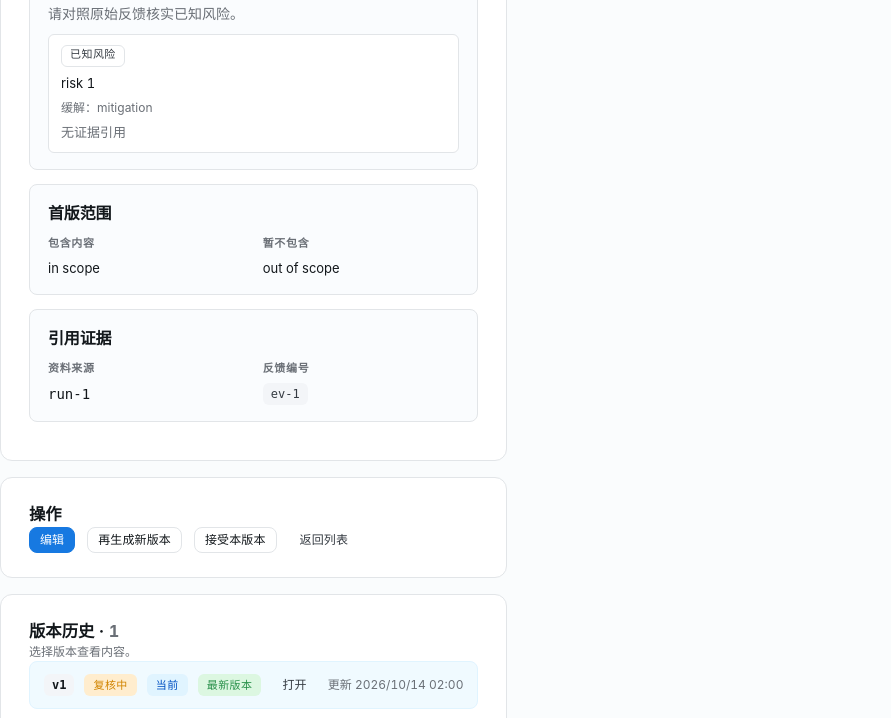
Scenario: PrdDetailPage — Phase 7 C2 › enters edit mode and persists a structured content patch via PATCH /prds/{id}
This screenshot has width=891, height=718.
(page scrolled)
Click the button with test id "prd-edit-button".
click(52, 540)  # box [29,526,75,552]
(page scrolled)
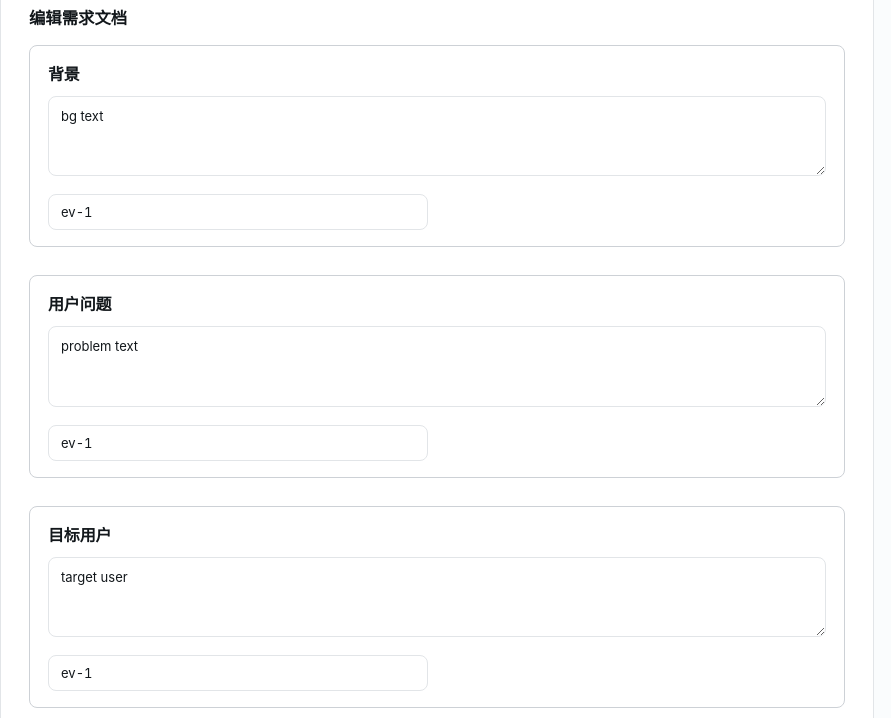
Replace the text in the text box with test id "prd-draft-problem-text" with "updated problem statement from PM" at [437, 367], box [48,326,826,407]
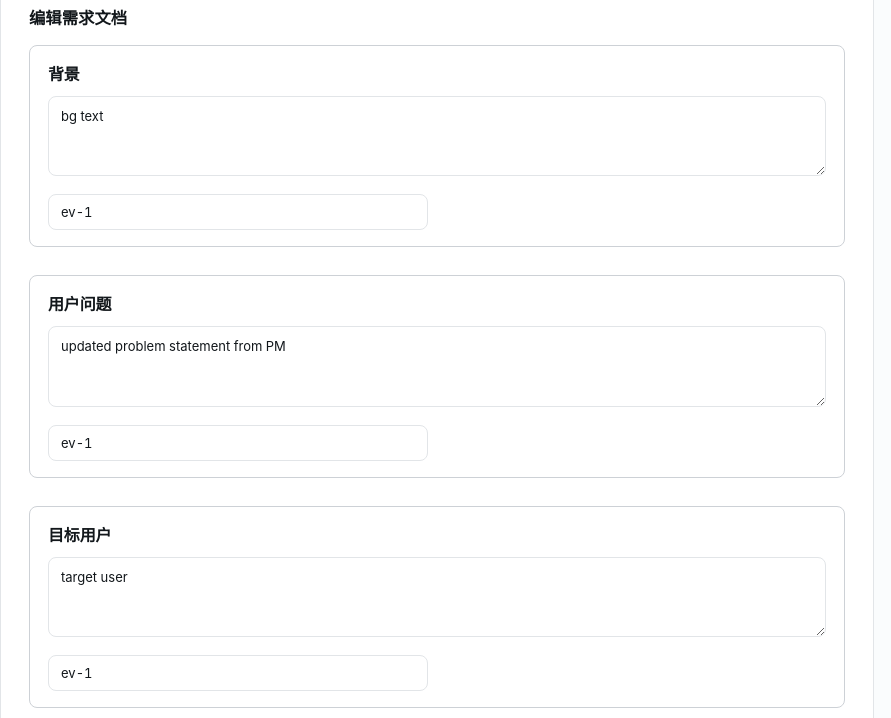
Replace the text in the field with test id "prd-draft-problem-evidence" with "ev-pm-1, ev-pm-2" at [238, 443], box [48,425,428,461]
(page scrolled)
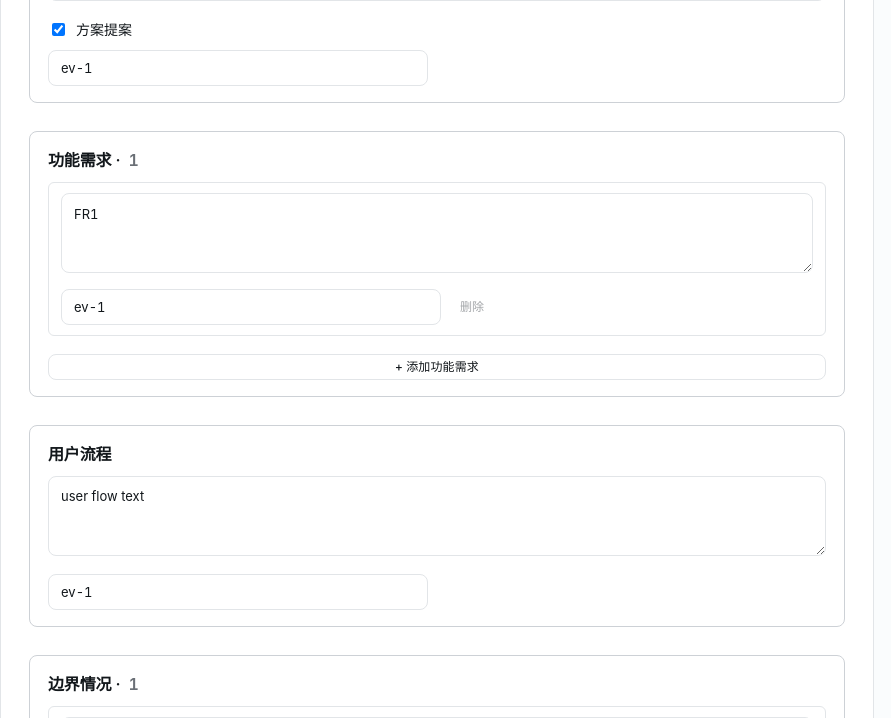
Click the button with test id "prd-draft-fr-add".
click(437, 367)  # box [48,354,826,380]
(page scrolled)
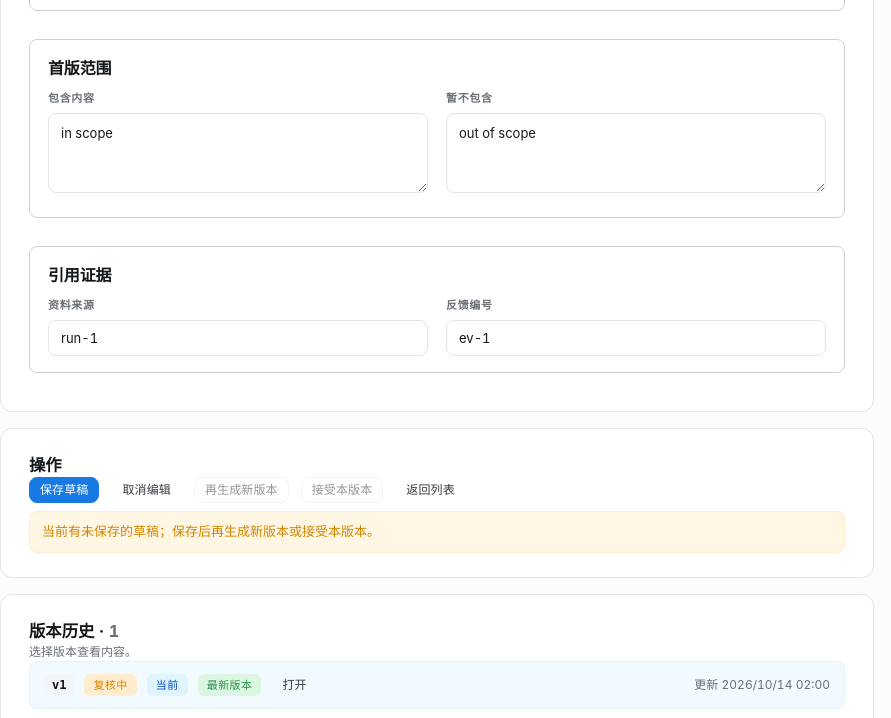
Expected: the button with test id "prd-save-button" is enabled
Click the button with test id "prd-save-button".
click(64, 490)  # box [29,477,100,503]
(page scrolled)
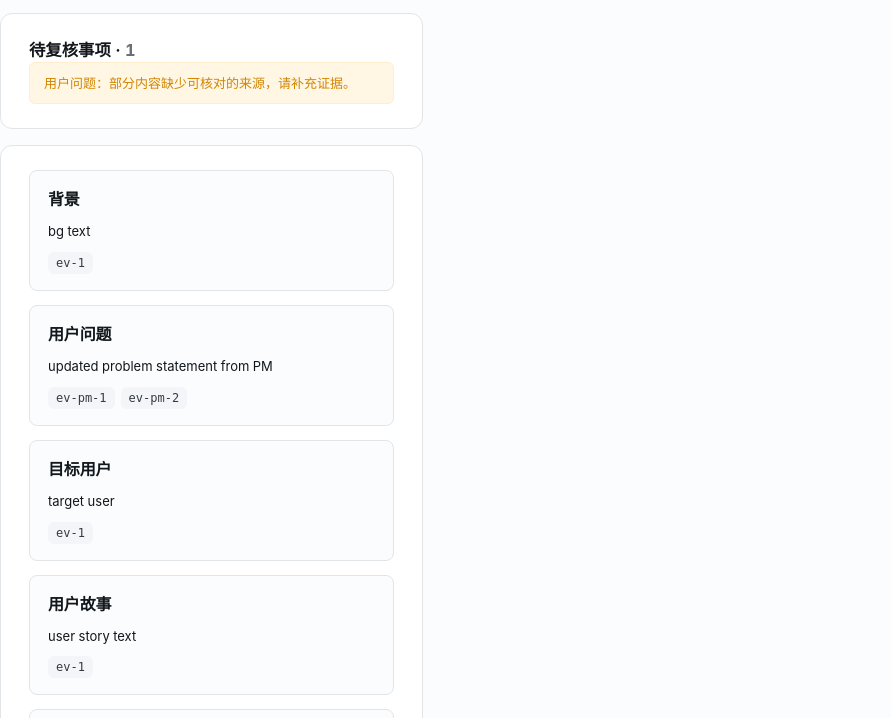
Expected: the text "updated problem statement from PM" is shown, [48,358,273,374]
